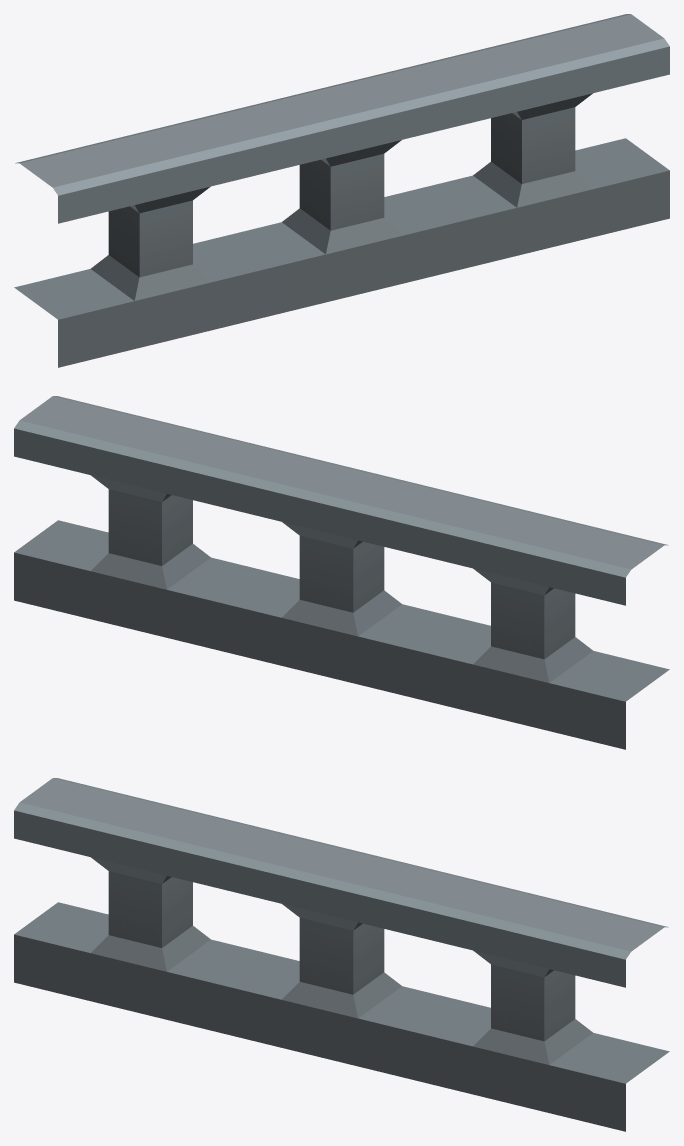
The model's file is barrier.glb.
3 renders of one model, top to bottom at view 1: azimuth 30°, elevation 25°; view 2: azimuth 150°, elevation 25°; view 3: azimuth 330°, elevation 25°, orthographic.
Parts seen in each view (by area): view 1: barrier; view 2: barrier; view 3: barrier.
Part boxes in pixels (x1,y1,x2,y2): barrier: (14, 14, 669, 367); barrier: (14, 396, 669, 749); barrier: (14, 778, 669, 1131).
Size of the model in its own units: 4 by 1.1 by 0.5.
1 material, 1 textured.
